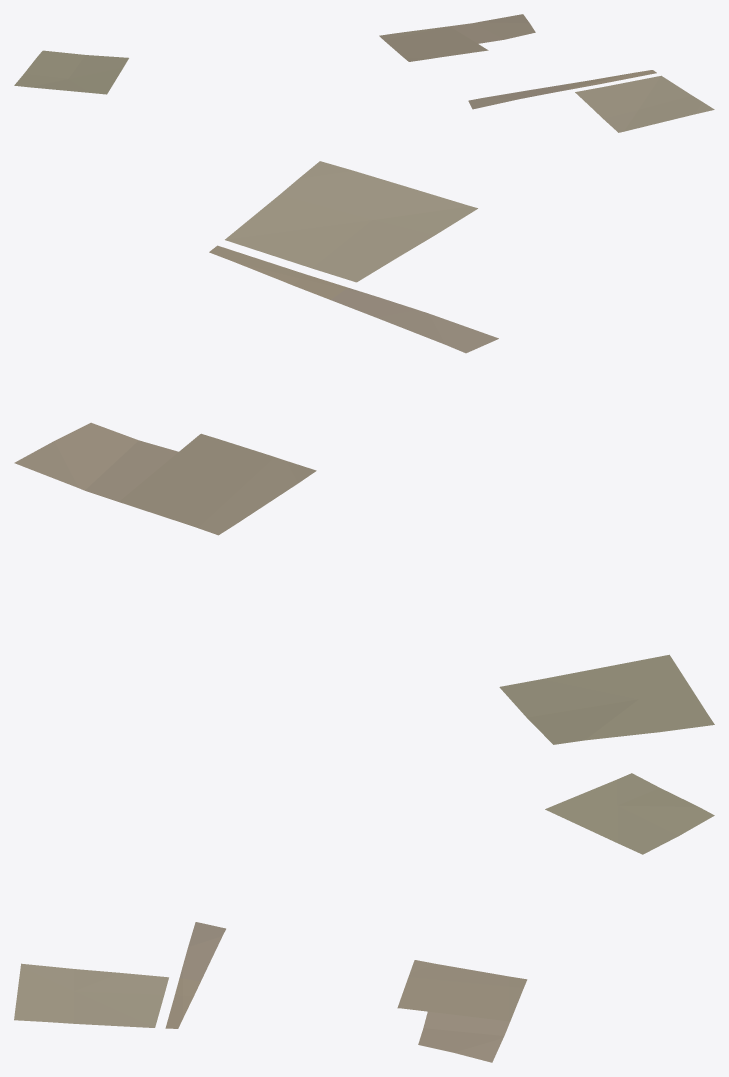
The model's file is farm_-1_3_soil.glb.
3 renders of one model, top to bottom at view 1: azimuth 30°, elevation 25°; view 2: azimuth 150°, elevation 25°; view 3: azimuth 270°, elevation 25°, orthographic. The views are drawn at different scales.
Visible parts, largest first — view 1: geometry_0; view 2: geometry_0; view 3: geometry_0.
Part boxes in pixels (x1=…): geometry_0: x1=14, y1=14, x2=714, y2=132; geometry_0: x1=14, y1=161, x2=714, y2=744; geometry_0: x1=14, y1=773, x2=714, y2=1062.
Bounding box in the file's own units: 514 × 43.27 × 516.
